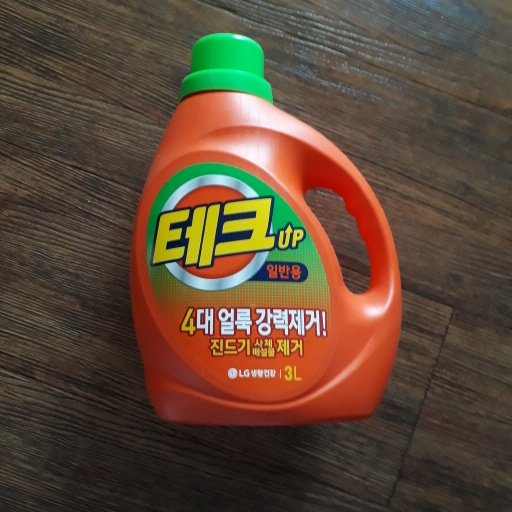Plastic_1: (124, 35, 405, 421)
